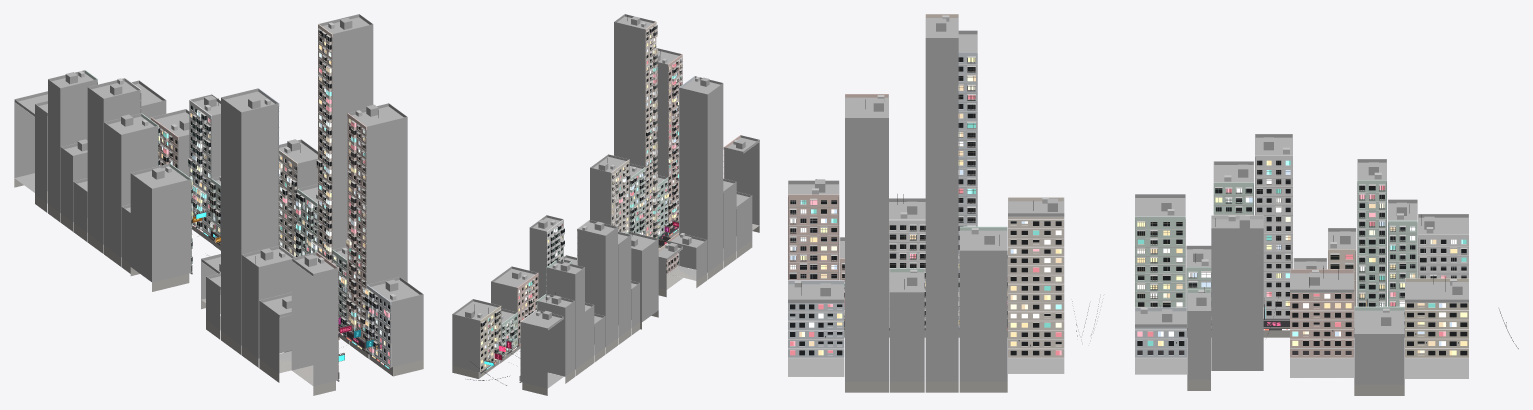
The model's file is district.glb.
3 views of the same model, side by side, from view 1: azimuth 30°, elevation 25°; view 2: azimuth 150°, elevation 25°; view 3: azimuth 270°, elevation 25° (orthographic). The views are drawn at different scales.
Visible parts, largest first — view 1: district_lm, district_self; view 2: district_lm, district_self; view 3: district_lm, district_self.
Boxes of the visible parts, left/top/right/bottom form: district_lm: left=14, top=14, right=423, bottom=395; district_self: left=190, top=195, right=390, bottom=381; district_lm: left=452, top=14, right=759, bottom=395; district_self: left=467, top=213, right=678, bottom=385; district_lm: left=788, top=14, right=1468, bottom=395; district_self: left=825, top=294, right=1518, bottom=354.
Size of the model in its own units: 54.62 by 115 by 211.
